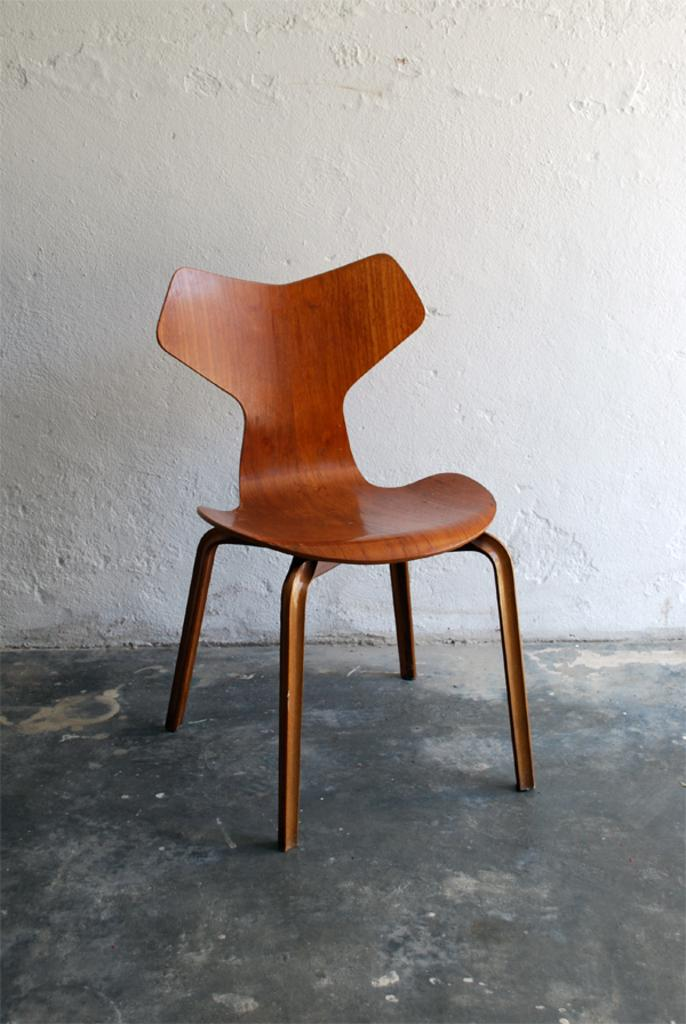Chair: (160, 247, 533, 854)
